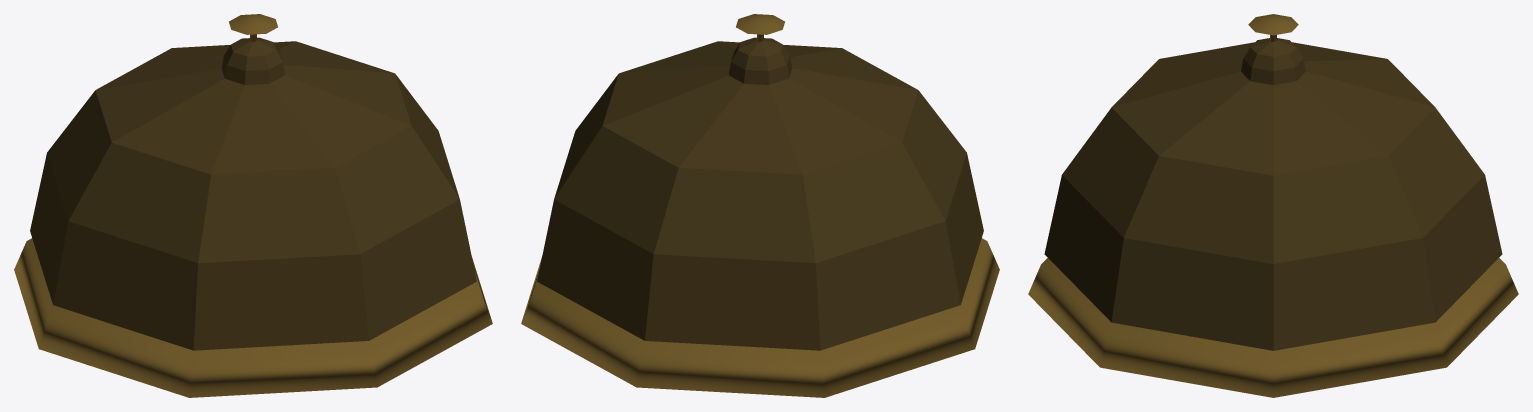
The model's file is Sinotel.fbx.
3 views of the same model, side by side, from view 1: azimuth 30°, elevation 25°; view 2: azimuth 150°, elevation 25°; view 3: azimuth 270°, elevation 25° (orthographic).
Visible parts, largest first — view 1: Campainha_Ferro2, Campainha_Base; view 2: Campainha_Ferro2, Campainha_Base; view 3: Campainha_Ferro2, Campainha_Base.
Part boxes in pixels (x1=…): Campainha_Ferro2: x1=30, y1=37, x2=476, y2=350; Campainha_Base: x1=14, y1=14, x2=492, y2=397; Campainha_Ferro2: x1=537, y1=37, x2=983, y2=350; Campainha_Base: x1=521, y1=14, x2=999, y2=397; Campainha_Ferro2: x1=1044, y1=38, x2=1502, y2=350; Campainha_Base: x1=1028, y1=14, x2=1518, y2=397.
Size of the model in its own units: 1.5 by 0.93 by 1.5.
